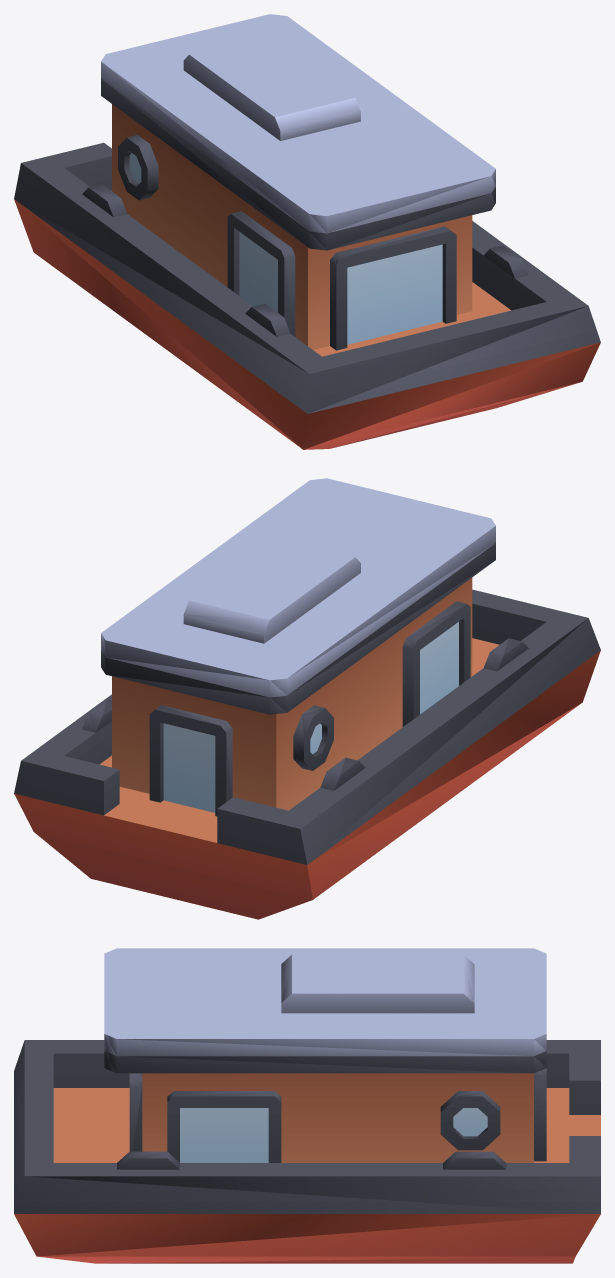
File: kw_boat_house_a.fbx
The picture shows the model from 3 angles, top to bottom: view 1: azimuth 30°, elevation 25°; view 2: azimuth 150°, elevation 25°; view 3: azimuth 270°, elevation 25°; orthographic projection.
Parts seen in each view (by area): view 1: kw_boat_house_a_LOD0; view 2: kw_boat_house_a_LOD0; view 3: kw_boat_house_a_LOD0.
Part boxes in pixels (x1,y1,x2,y2): kw_boat_house_a_LOD0: [14, 14, 600, 449]; kw_boat_house_a_LOD0: [14, 478, 600, 919]; kw_boat_house_a_LOD0: [14, 948, 600, 1263].
Size of what is drawn, in the model's own units: 6.43 by 5.21 by 11.15.
